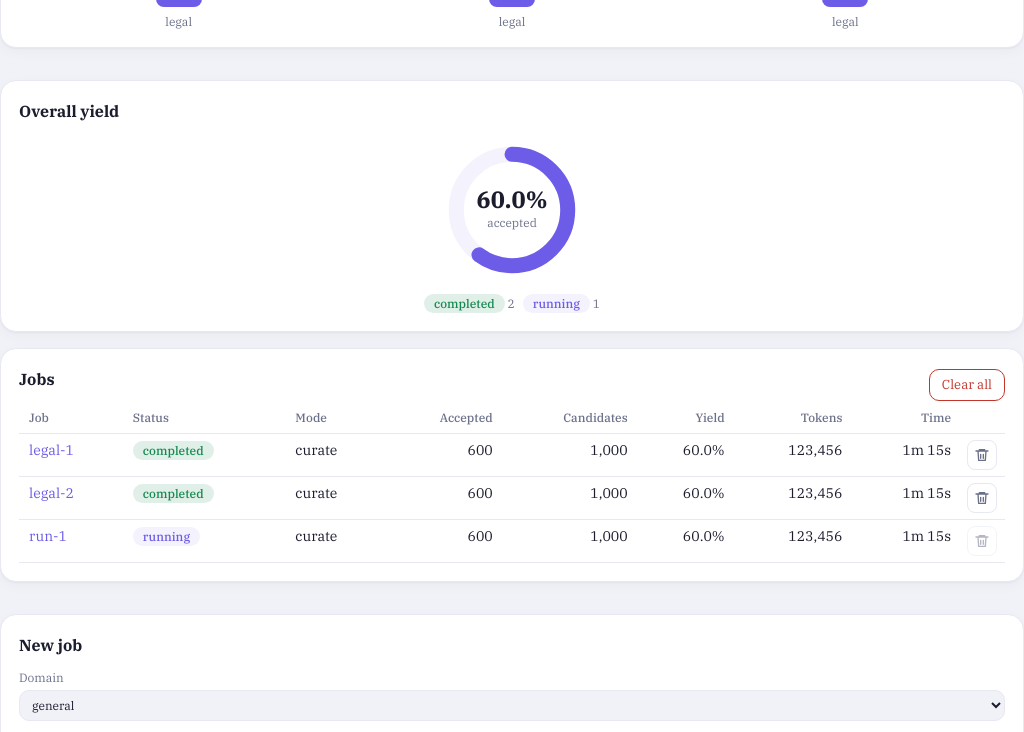
Home page › Clear all asks first, then removes the finished jobs and keeps the running one
(page scrolled)
Expected: the link "run-1" is shown, top-left (29, 527), bottom-right (67, 545)
Click the button "Clear all". click: point(967, 385)
box: top-left (929, 369), bottom-right (1005, 400)
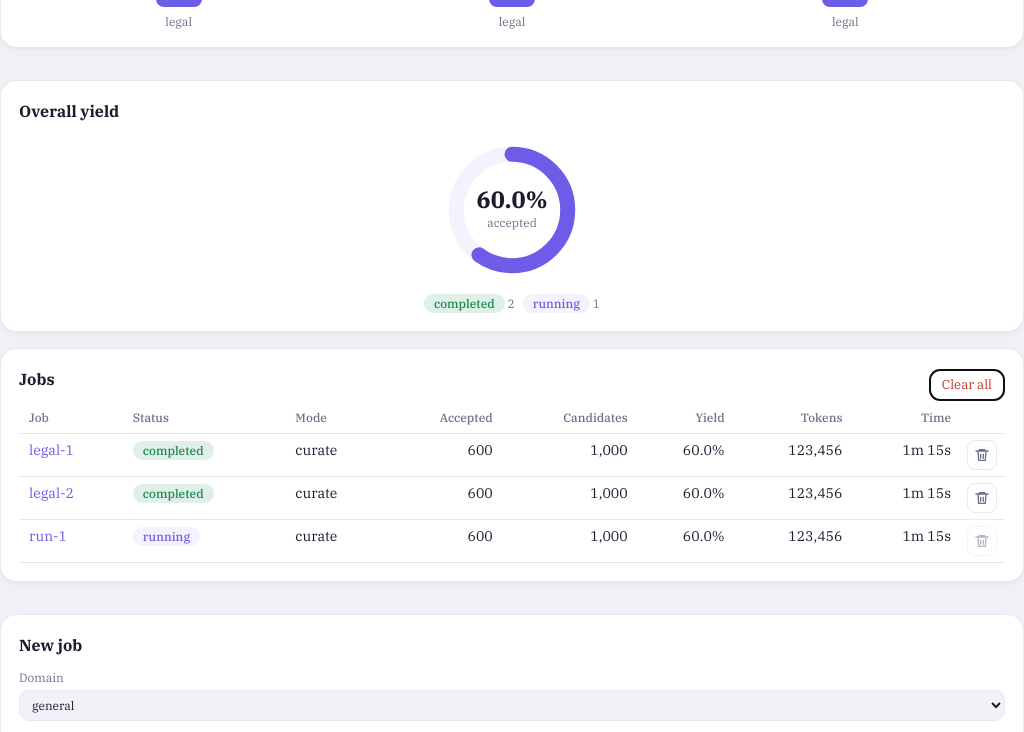
Click the button "Clear all". click: point(967, 385)
box: top-left (929, 369), bottom-right (1005, 400)
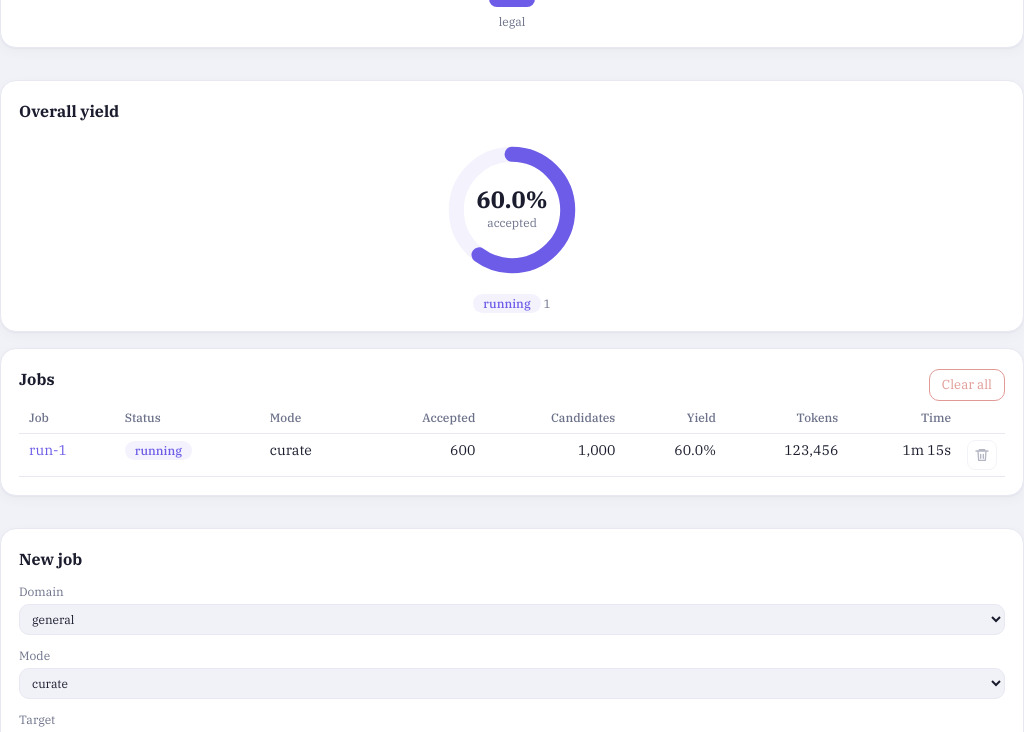
Expected: the link "run-1" is shown, top-left (29, 441), bottom-right (67, 459)
Expected: the link "legal-1" is gone
